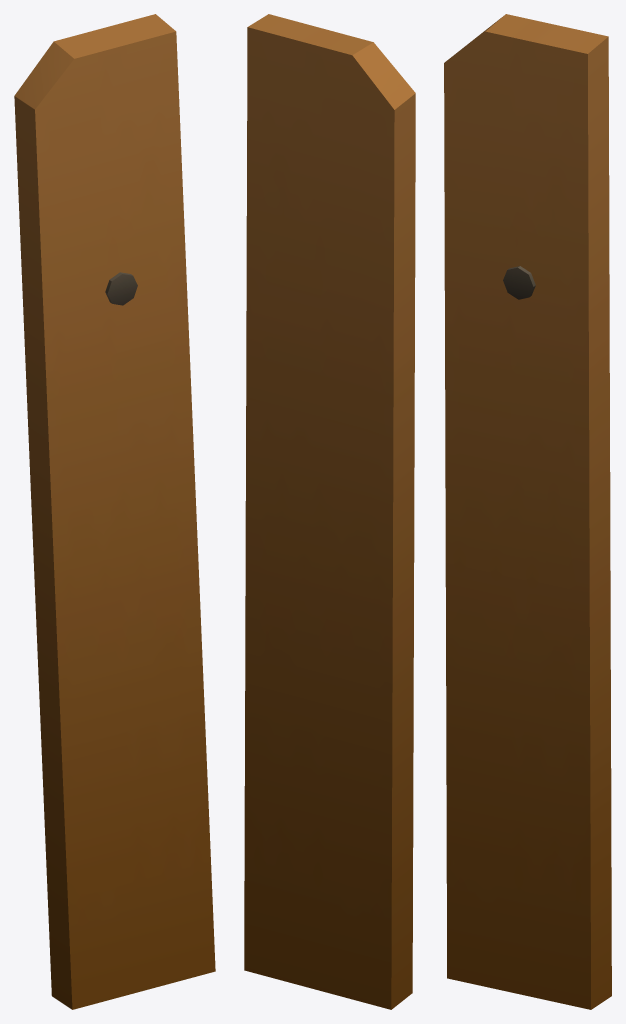
File: Fence_Bit_C.fbx
3 views of the same model, side by side, from view 1: azimuth 30°, elevation 25°; view 2: azimuth 150°, elevation 25°; view 3: azimuth 330°, elevation 25° (orthographic). The views are drawn at different scales.
Parts seen in each view (by area): view 1: Fence_Bit_C; view 2: Fence_Bit_C; view 3: Fence_Bit_C.
Boxes of the visible parts, x1=… form: Fence_Bit_C: x1=14, y1=14, x2=215, y2=1009; Fence_Bit_C: x1=244, y1=14, x2=415, y2=1009; Fence_Bit_C: x1=444, y1=14, x2=611, y2=1009.
Bounding box in the file's own units: 18.26 × 7.49 × 100.
Materials: 1 (1 with a texture image).
